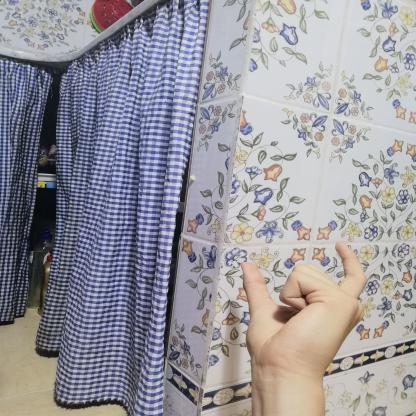NOON: (224, 228, 386, 390)
